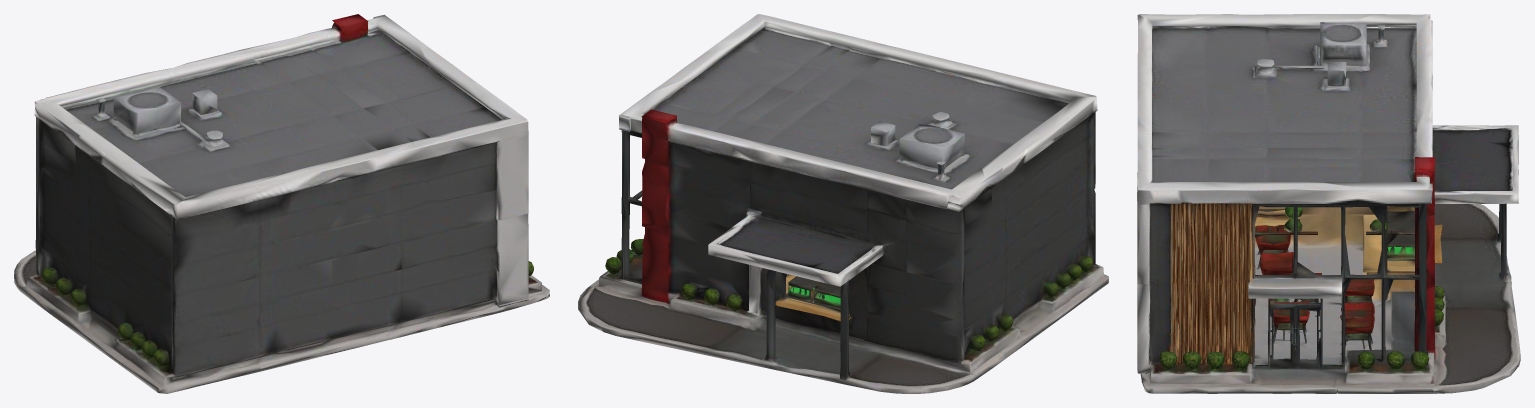
Rendered from restaurante.glb.
The picture shows the model from 3 angles, left to right: view 1: azimuth 30°, elevation 25°; view 2: azimuth 150°, elevation 25°; view 3: azimuth 270°, elevation 25°; orthographic projection. The views are drawn at different scales.
Parts seen in each view (by area): view 1: tripo_node_2e31b33d-c0e9-42ad-abf5-f54cc5b899fe; view 2: tripo_node_2e31b33d-c0e9-42ad-abf5-f54cc5b899fe; view 3: tripo_node_2e31b33d-c0e9-42ad-abf5-f54cc5b899fe.
Boxes of the visible parts, x1=… form: tripo_node_2e31b33d-c0e9-42ad-abf5-f54cc5b899fe: x1=14, y1=14, x2=549, y2=393; tripo_node_2e31b33d-c0e9-42ad-abf5-f54cc5b899fe: x1=578, y1=14, x2=1108, y2=393; tripo_node_2e31b33d-c0e9-42ad-abf5-f54cc5b899fe: x1=1137, y1=14, x2=1520, y2=393.
Bounding box in the file's own units: 2.05 × 1 × 1.68.
1 material, 1 textured.
